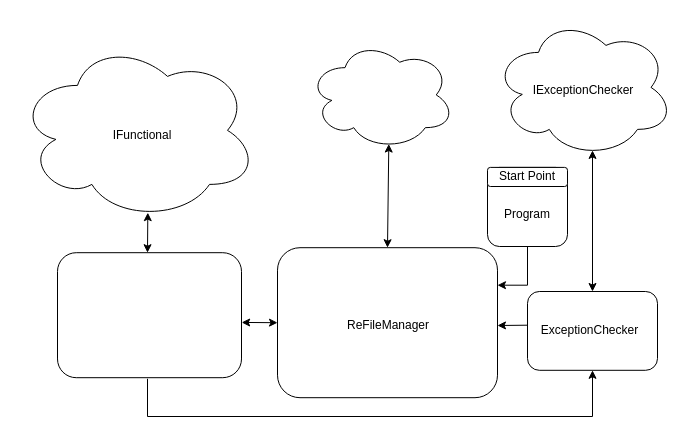
Some shapes in this 691 by 443 pixel diagram are drawn without their labels. The shapes that lost their labels are listed below. From the top down, each one's centre as x and y in pixels, then its label:
point 381,94: IVisualizer
point 149,315: FilesAndDirsEditor
